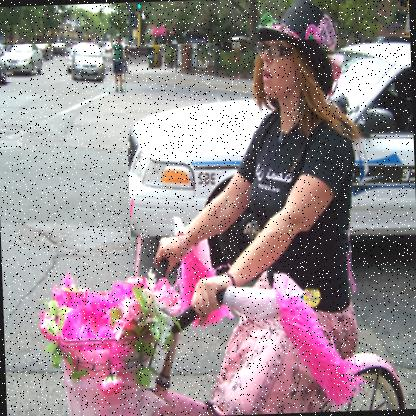Car: (123, 36, 415, 241), (0, 41, 113, 84)
